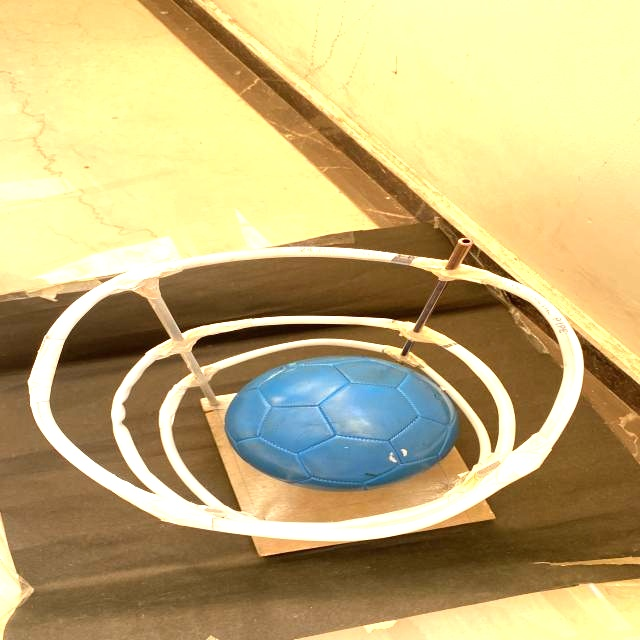blue_ball: (235, 358, 450, 490)
silo: (24, 243, 592, 550)
